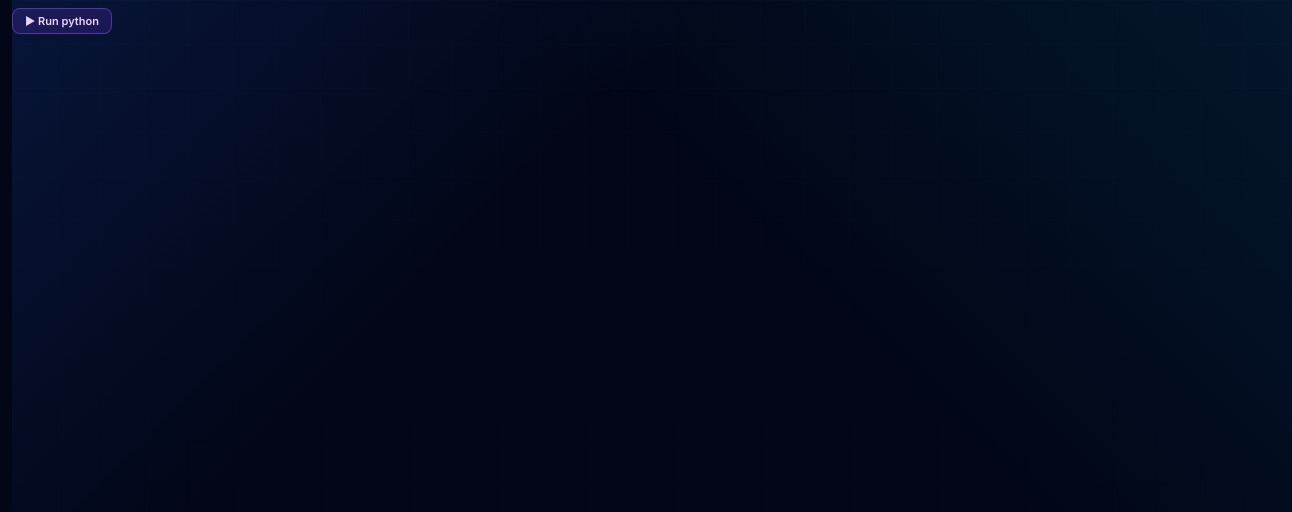
Test: click + mocked RUNTIME_ERROR -> red badge, stderr shown
This screenshot has width=1292, height=512.
Click the button with test id "run-code-btn" at (62, 21), box 12,8 -> 112,34
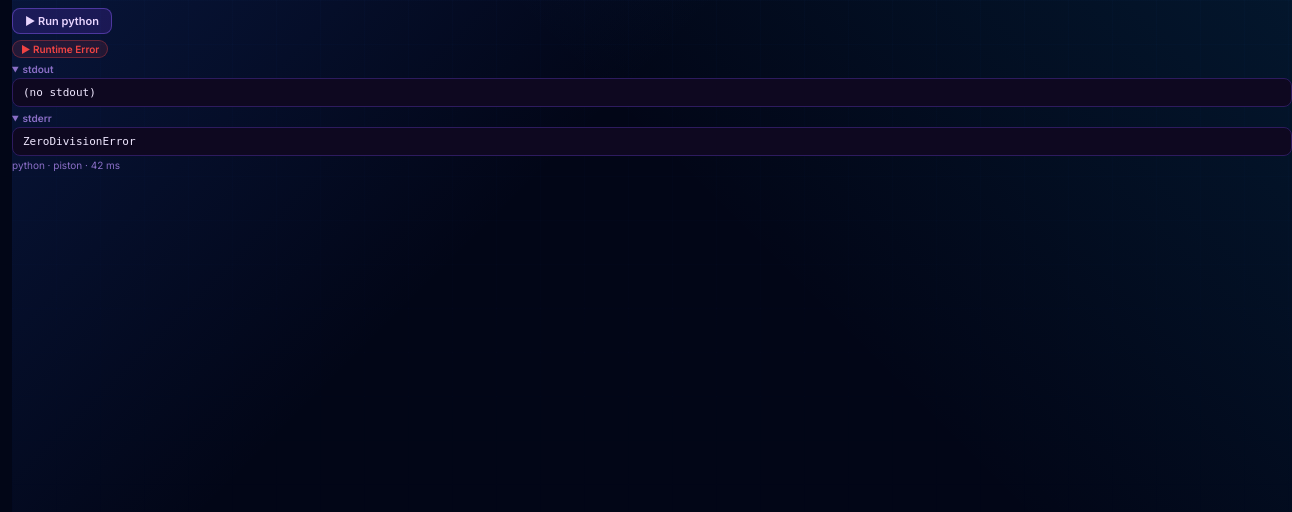
Check: the text with test id "runtime-badge" shows "Runtime Error", box 33,43 -> 99,55
Check: the element with test id "runtime-stderr" shows "ZeroDivisionError", box 23,135 -> 136,148
